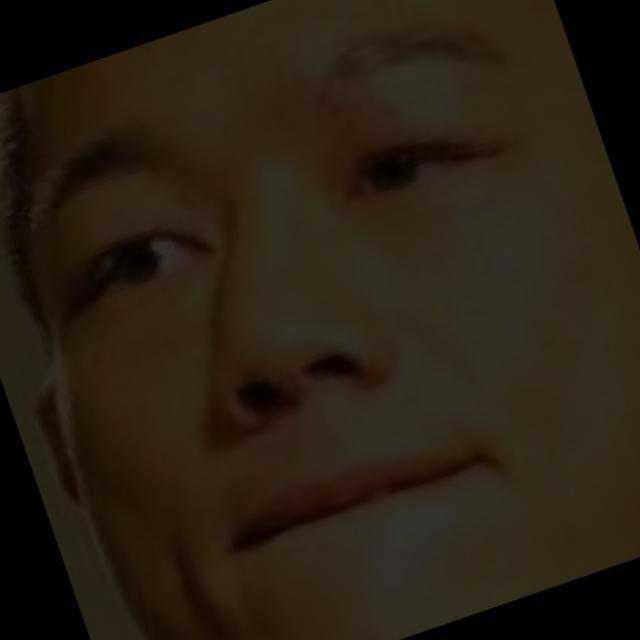Angry: (27, 47, 640, 613)
